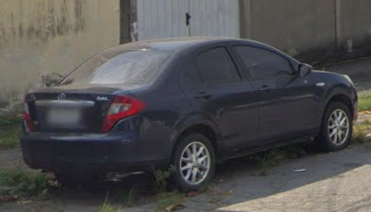car: (20, 37, 360, 191)
